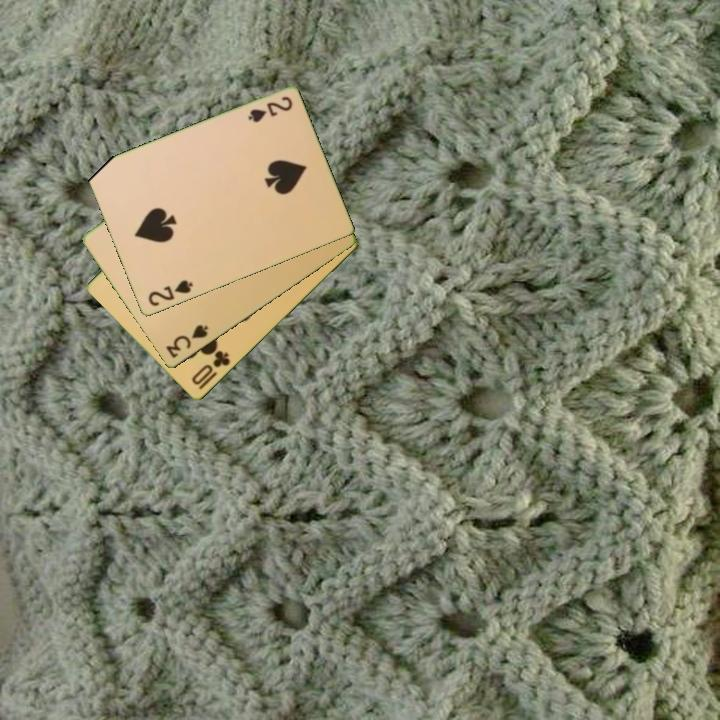10c: (188, 347, 233, 389)
2s: (144, 277, 196, 310), (244, 93, 295, 126)
3s: (162, 321, 211, 361)
